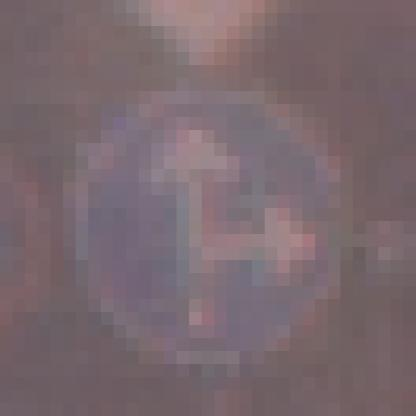Straight or Right: (64, 66, 354, 352)
